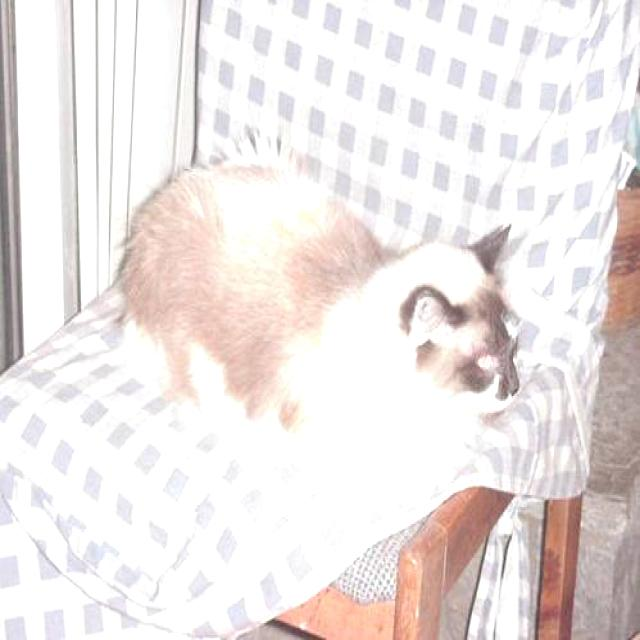Kucing: (25, 71, 572, 483)
